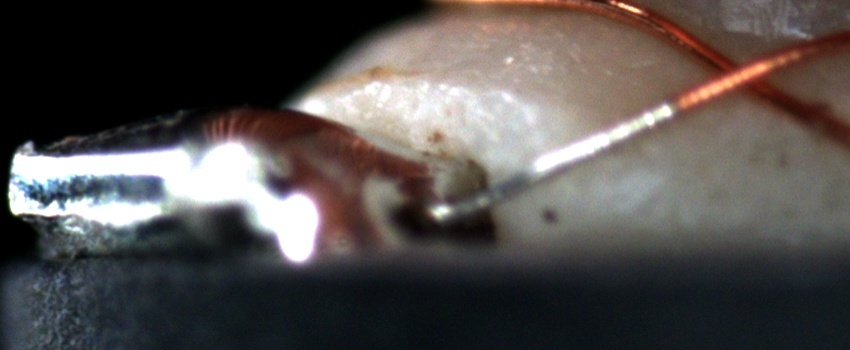CL: (691, 45, 786, 104)
TS: (428, 99, 677, 226)
